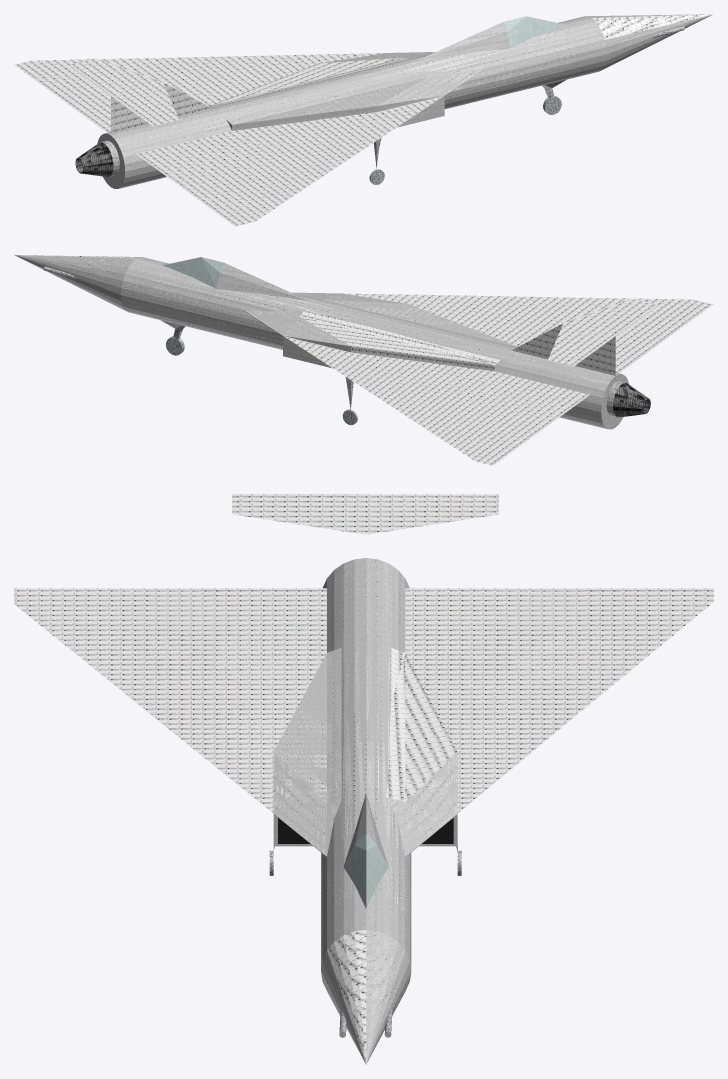
3 views of the same model, one above another, from view 1: azimuth 30°, elevation 25°; view 2: azimuth 150°, elevation 25°; view 3: azimuth 270°, elevation 25° (orthographic). The views are drawn at different scales.
Visible parts, largest first — view 1: mesh1_mesh1-geometry, mesh6_mesh6-geometry; view 2: mesh1_mesh1-geometry, mesh6_mesh6-geometry; view 3: mesh1_mesh1-geometry.
Part boxes in pixels (x1,y1,x2,y2): mesh1_mesh1-geometry: (14,14,712,226); mesh6_mesh6-geometry: (75,140,119,176); mesh1_mesh1-geometry: (14,255,713,465); mesh6_mesh6-geometry: (606,381,650,417); mesh1_mesh1-geometry: (14,494,713,1064).
Bounding box in the file's own units: 0.845 × 0.161 × 0.51.
